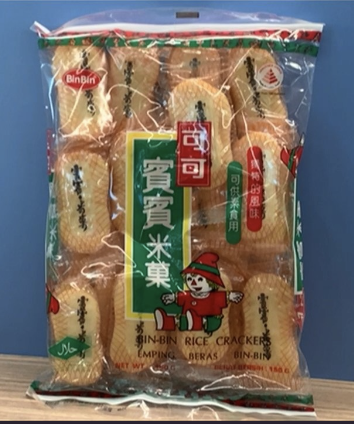crackers_150g: (57, 46, 291, 383)
